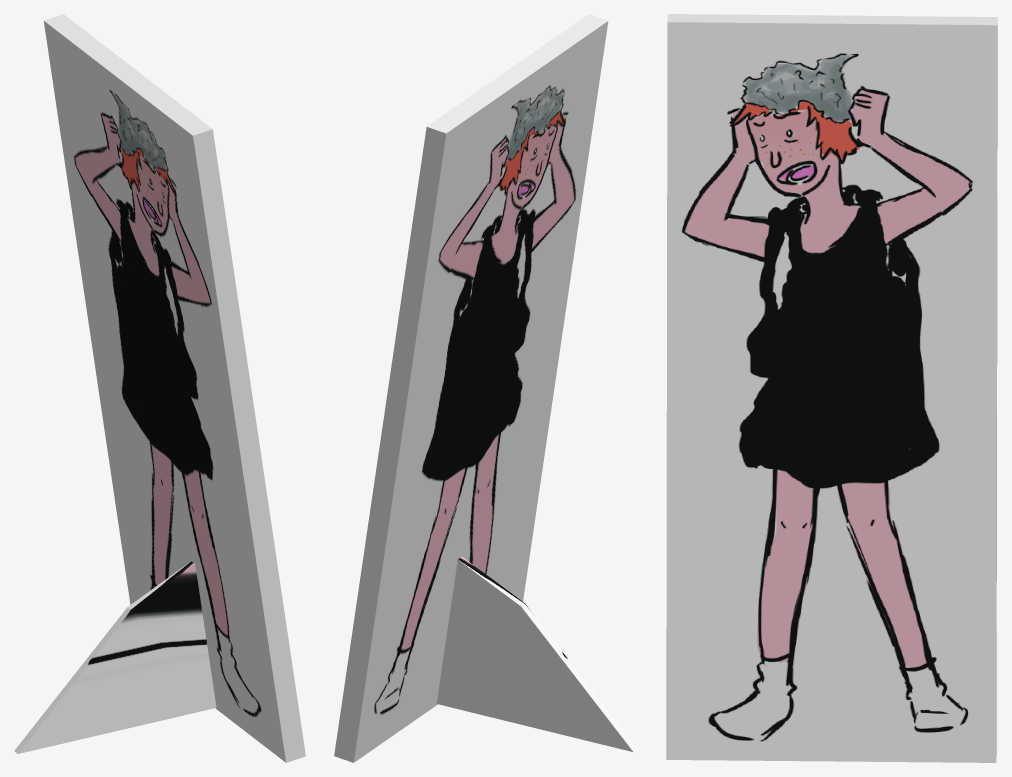
The model's file is crazy guy.fbx.
3 renders of one model, left to right at view 1: azimuth 30°, elevation 25°; view 2: azimuth 150°, elevation 25°; view 3: azimuth 270°, elevation 25°, orthographic. The views are drawn at different scales.
Visible parts, largest first — view 1: Cube; view 2: Cube; view 3: Cube.
Part boxes in pixels (x1,y1,x2,y2): Cube: [14, 14, 305, 762]; Cube: [334, 14, 637, 762]; Cube: [666, 14, 997, 762].
Size of the model in its own units: 1.16 by 3.27 by 1.42.
